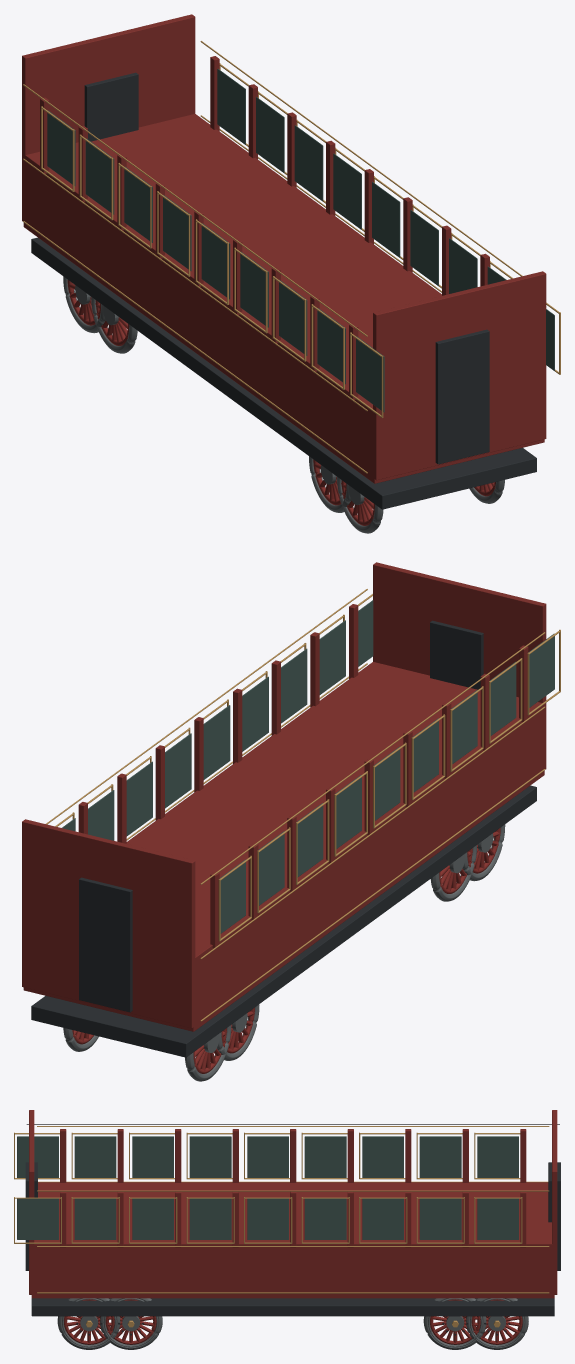
The model's file is carriage.glb.
The picture shows the model from 3 angles, top to bottom: view 1: azimuth 30°, elevation 25°; view 2: azimuth 150°, elevation 25°; view 3: azimuth 270°, elevation 25°; orthographic projection. The views are drawn at different scales.
Visible parts, largest first — view 1: carriage_scarlet.006, carriage_glass.006, carriage_black.006, carriage_brass.006, carriage_steel.006; view 2: carriage_scarlet.006, carriage_glass.006, carriage_black.006, carriage_brass.006, carriage_steel.006; view 3: carriage_scarlet.006, carriage_glass.006, carriage_black.006, carriage_brass.006, carriage_steel.006.
Boxes of the visible parts, x1=… form: carriage_scarlet.006: x1=22, y1=14, x2=546, y2=525; carriage_glass.006: x1=47, y1=69, x2=554, y2=412; carriage_black.006: x1=31, y1=72, x2=536, y2=509; carriage_brass.006: x1=23, y1=41, x2=560, y2=473; carriage_steel.006: x1=63, y1=276, x2=504, y2=533; carriage_scarlet.006: x1=22, y1=562, x2=546, y2=1073; carriage_glass.006: x1=62, y1=600, x2=554, y2=933; carriage_black.006: x1=31, y1=620, x2=536, y2=1057; carriage_brass.006: x1=46, y1=589, x2=560, y2=1021; carriage_steel.006: x1=63, y1=824, x2=505, y2=1081; carriage_scarlet.006: x1=29, y1=1110, x2=557, y2=1344; carriage_glass.006: x1=17, y1=1136, x2=518, y2=1239; carriage_black.006: x1=25, y1=1124, x2=560, y2=1335; carriage_brass.006: x1=14, y1=1126, x2=549, y2=1327; carriage_steel.006: x1=57, y1=1298, x2=528, y2=1349.
Size of the model in its own units: 3 by 4.02 by 10.46.
